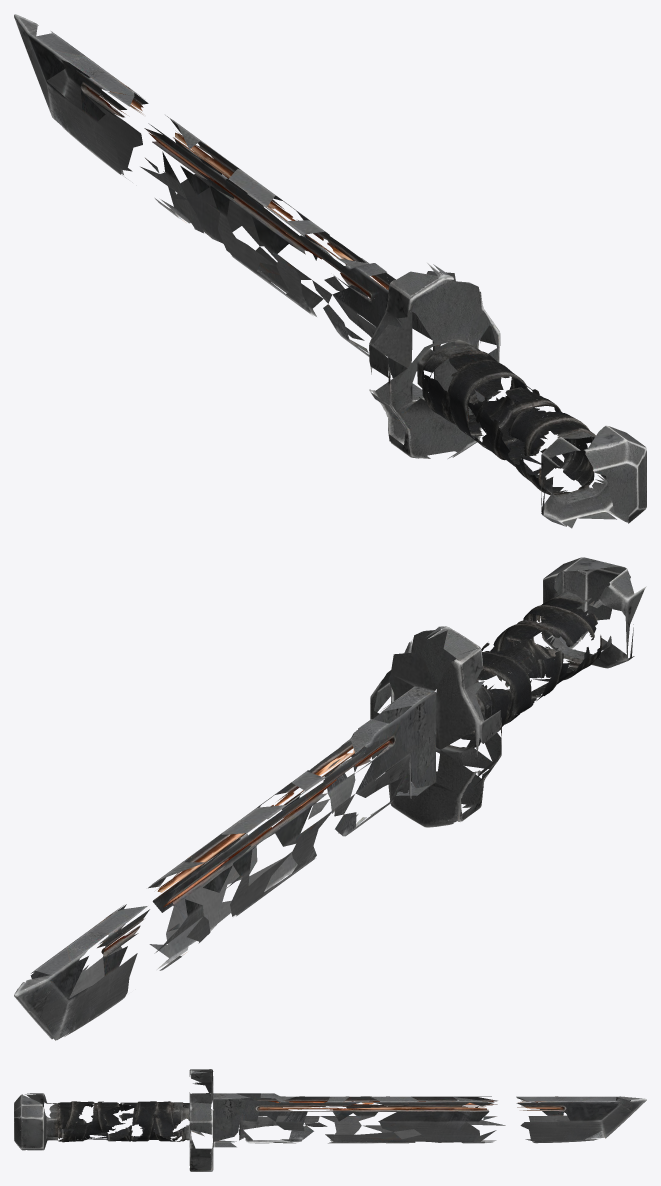
Rendered from sword.glb.
The picture shows the model from 3 angles, top to bottom: view 1: azimuth 30°, elevation 25°; view 2: azimuth 150°, elevation 25°; view 3: azimuth 270°, elevation 25°; orthographic projection. The views are drawn at different scales.
Parts seen in each view (by area): view 1: SwordBody; view 2: SwordBody; view 3: SwordBody.
Boxes of the visible parts, x1=… form: SwordBody: x1=14, y1=14, x2=646, y2=528; SwordBody: x1=14, y1=557, x2=646, y2=1040; SwordBody: x1=14, y1=1069, x2=646, y2=1171.
Size of the model in its own units: 0.1132 by 0.1818 by 1.05.
1 material, 1 textured.
